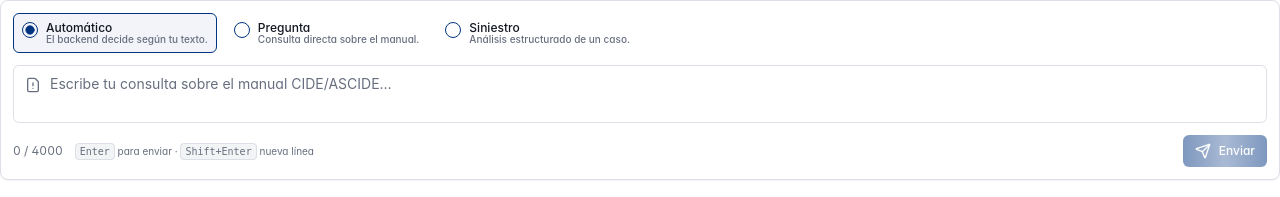
Scenario: Composer › habilita el botón cuando hay texto no-whitespace
Type "hola mundo" into the text box named "texto de la consulta".
click(640, 94); type("hola mundo")  # box [13,65,1267,123]
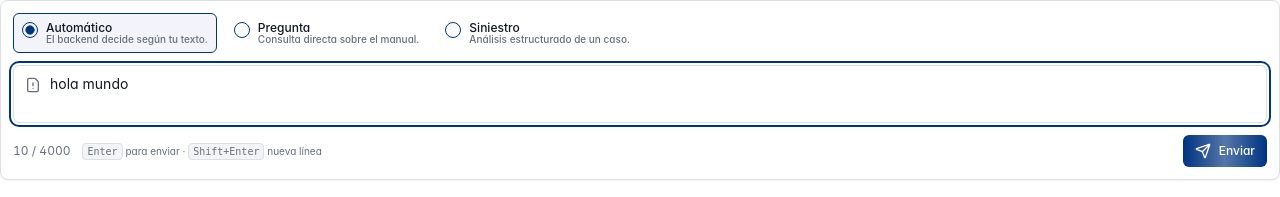
Expected: the button with aria-label "enviar consulta" is enabled, [1183,135,1267,167]
